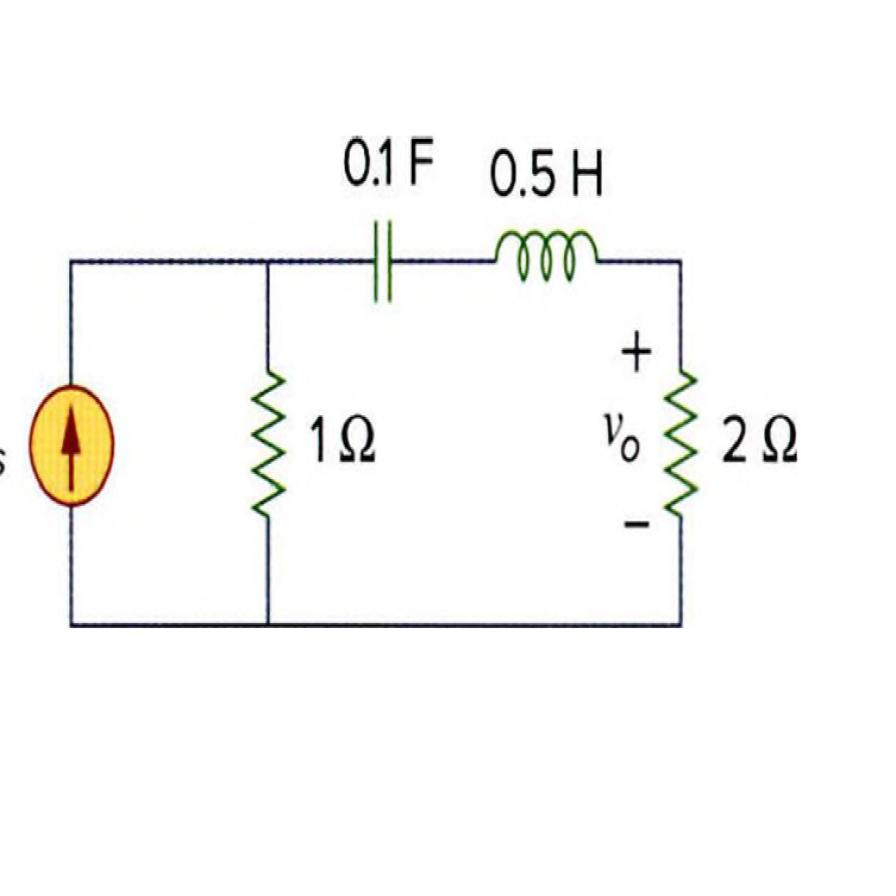C1: (342, 204, 422, 310)
I1: (29, 383, 113, 506)
L1: (467, 204, 618, 298)
